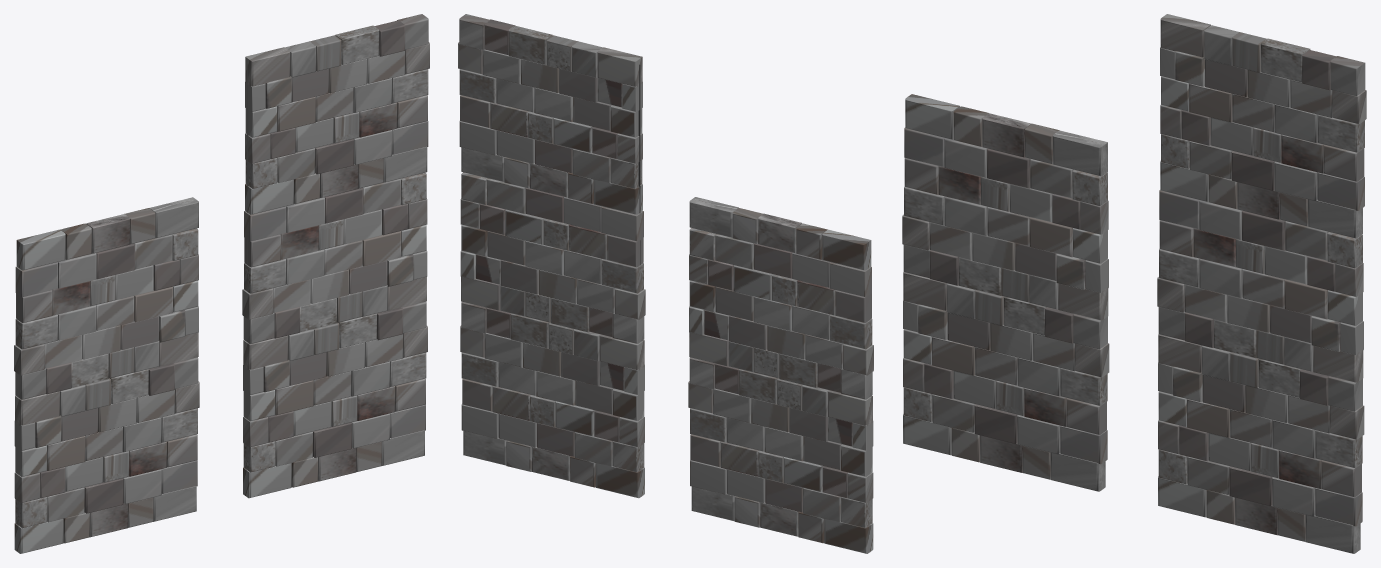
The model's file is mur_grand.fbx.
The picture shows the model from 3 angles, left to right: view 1: azimuth 30°, elevation 25°; view 2: azimuth 150°, elevation 25°; view 3: azimuth 330°, elevation 25°; orthographic projection. The views are drawn at different scales.
Parts seen in each view (by area): view 1: pCube574, pCube634; view 2: pCube574, pCube634; view 3: pCube574, pCube634.
Part boxes in pixels (x1=…): pCube574: x1=242, y1=14, x2=429, y2=498; pCube634: x1=14, y1=197, x2=199, y2=553; pCube574: x1=458, y1=14, x2=645, y2=498; pCube634: x1=688, y1=197, x2=873, y2=553; pCube574: x1=1157, y1=14, x2=1366, y2=553; pCube634: x1=902, y1=94, x2=1109, y2=491.
Size of the model in its own units: 116 by 118 by 4.22.
